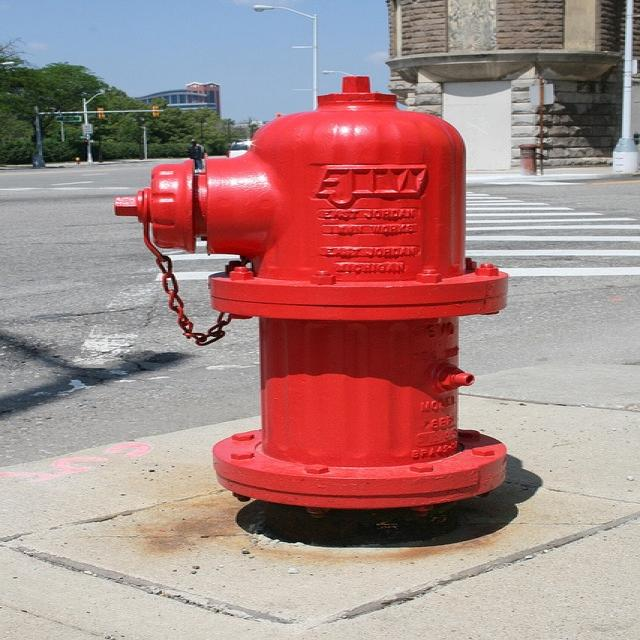car: (223, 137, 246, 157)
fire_hydrant: (112, 74, 506, 528)
